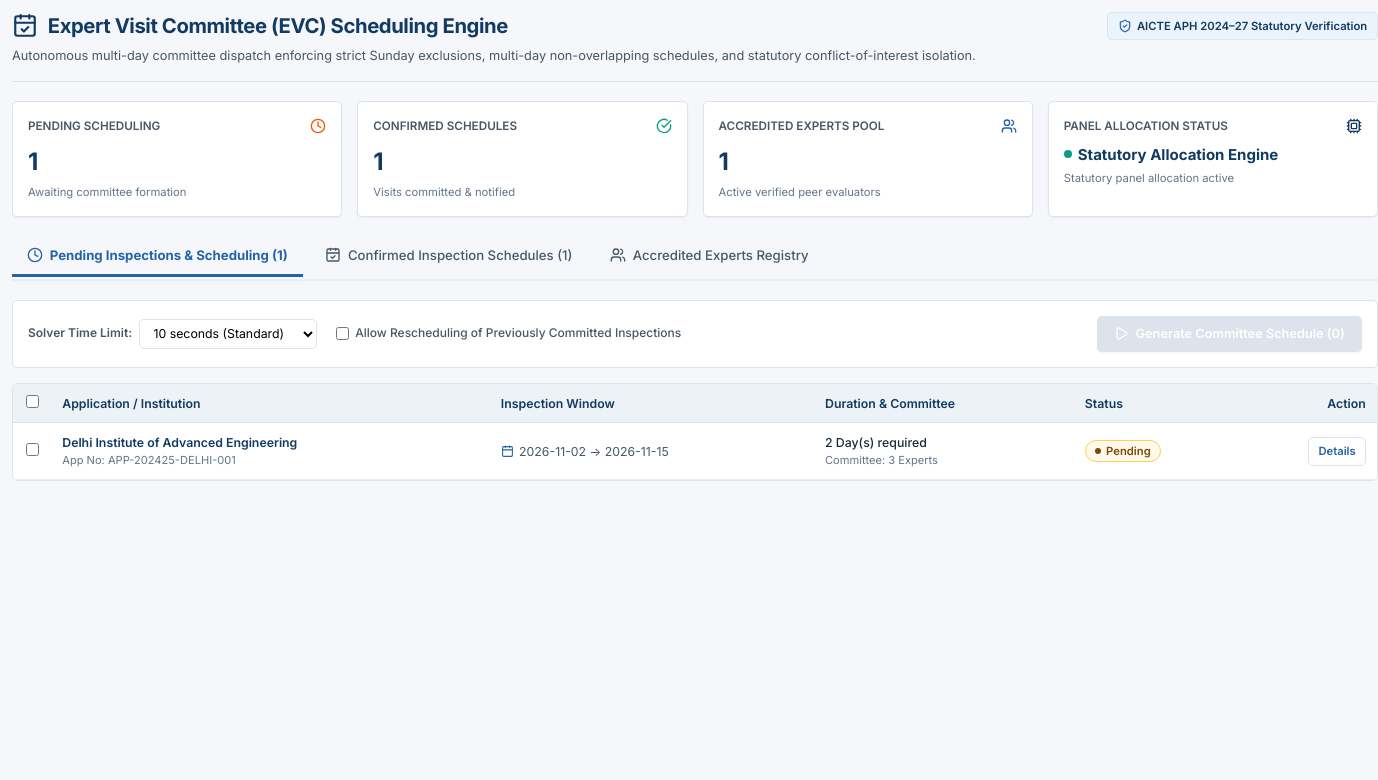
Scenario: EVC Scheduling Engine Frontend Workflow › executes CP-SAT scheduler and displays success banner upon optimal outcome
Expected: the text "Delhi Institute of Advanced Engineering" is shown, [62,435,297,450]
Click the checkbox named "Select all pending inspections": (32, 401) [26,395,38,408]
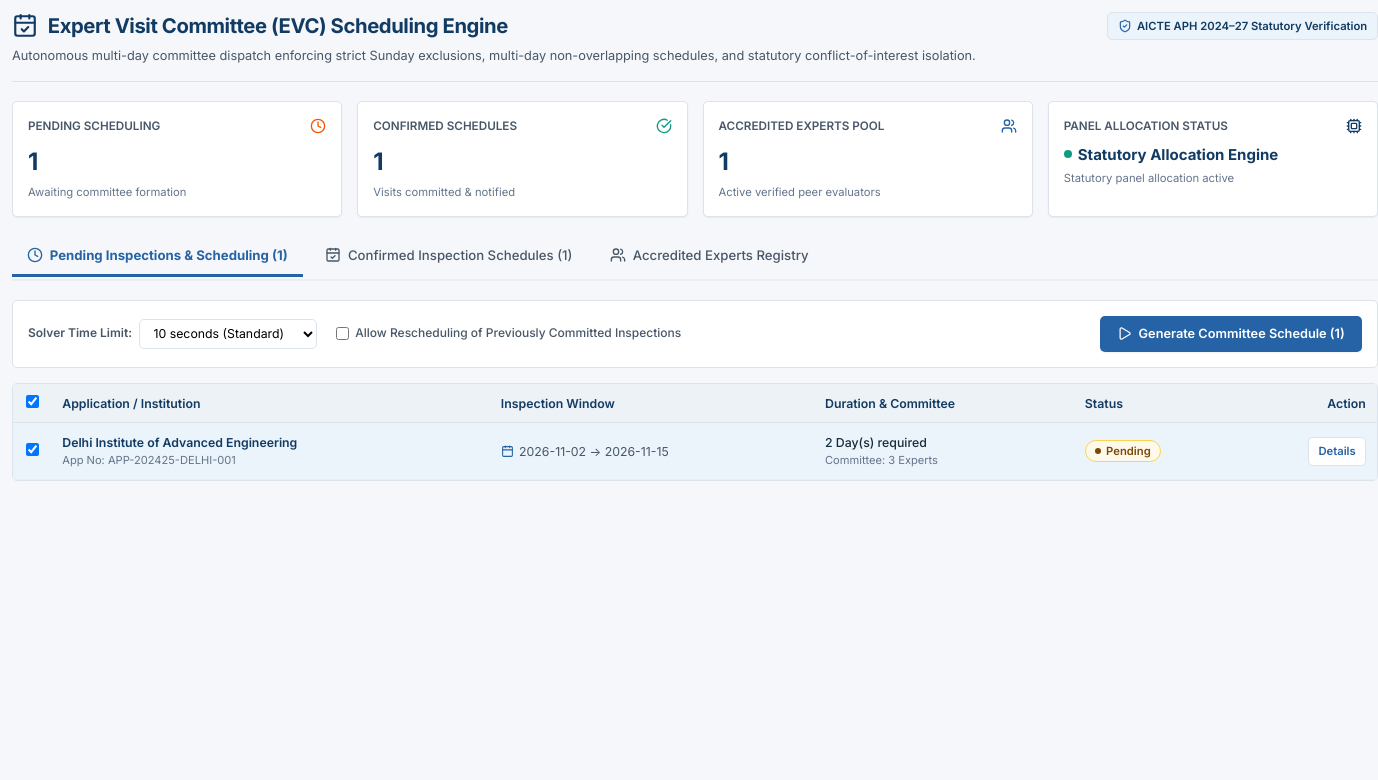
Click the button "Generate Committee Schedule (1)": (1231, 334) [1100,316,1362,352]
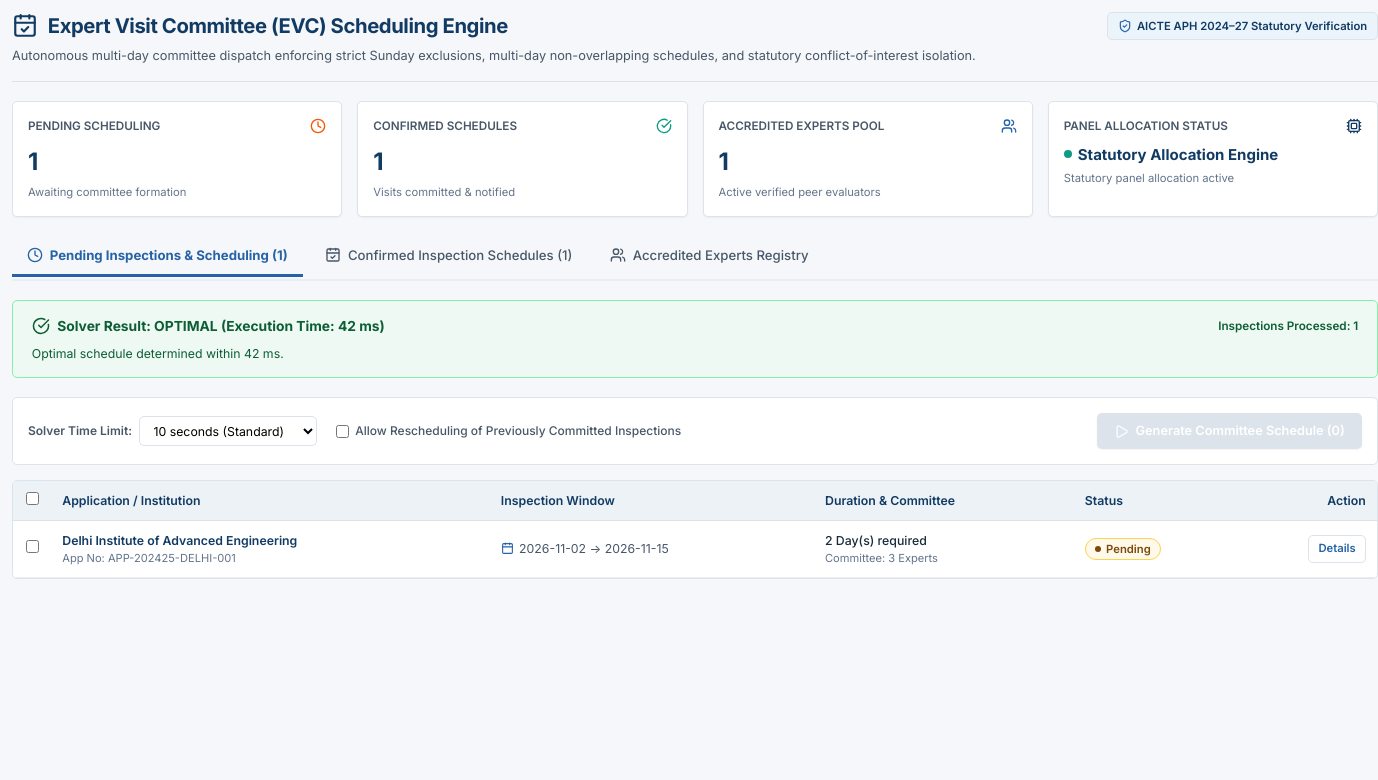
Expected: the text "Solver Result: OPTIMAL (Execution Time: 42 ms)" is shown, [57,316,385,337]
